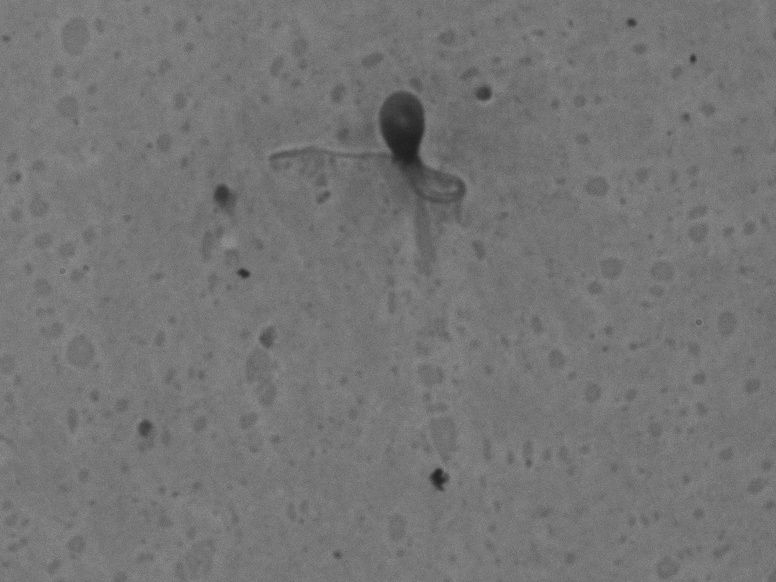Abnormal: (238, 55, 497, 261)
